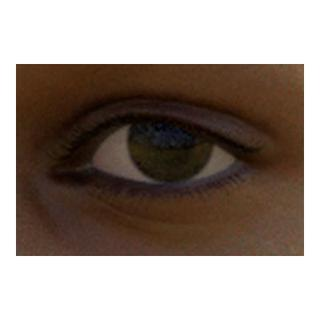pupil: (148, 119, 191, 161)
